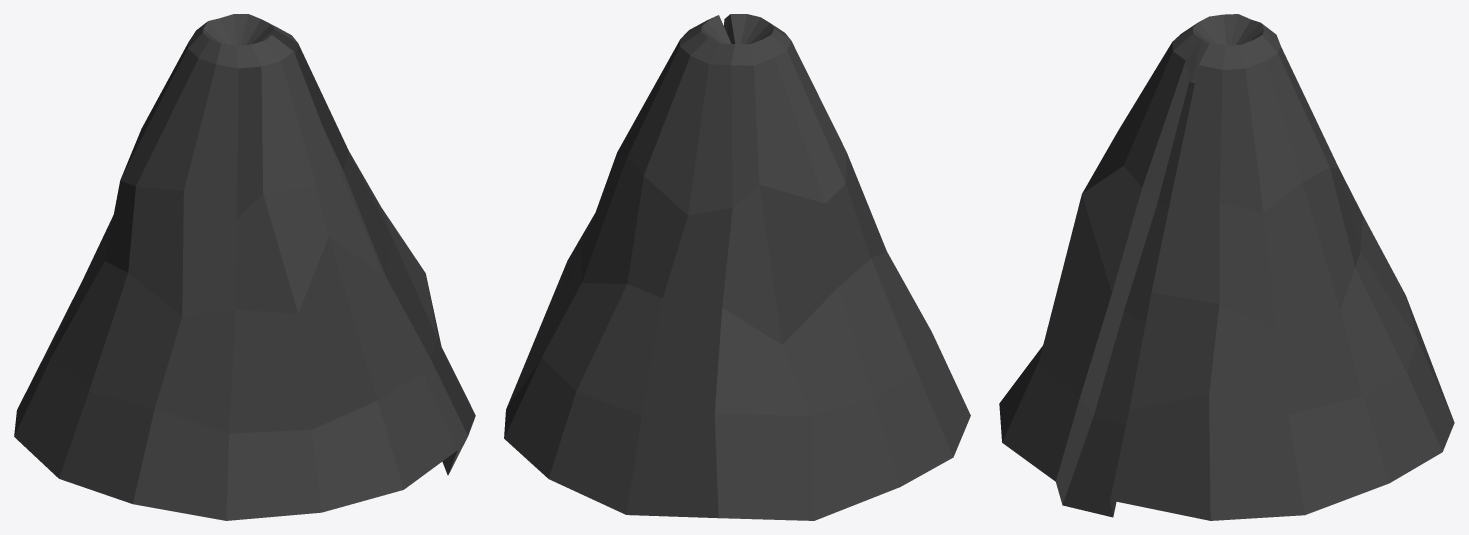
Rendered from Vulcano.fbx.
The picture shows the model from 3 angles, left to right: view 1: azimuth 30°, elevation 25°; view 2: azimuth 150°, elevation 25°; view 3: azimuth 270°, elevation 25°; orthographic projection.
Parts seen in each view (by area): view 1: Vulcano; view 2: Vulcano; view 3: Vulcano.
Part boxes in pixels (x1,y1,x2,y2): Vulcano: (14,14,475,520); Vulcano: (504,14,970,520); Vulcano: (999,14,1454,520).
Size of the model in its own units: 171 by 171 by 170.
Materials: 1 (1 with a texture image).
